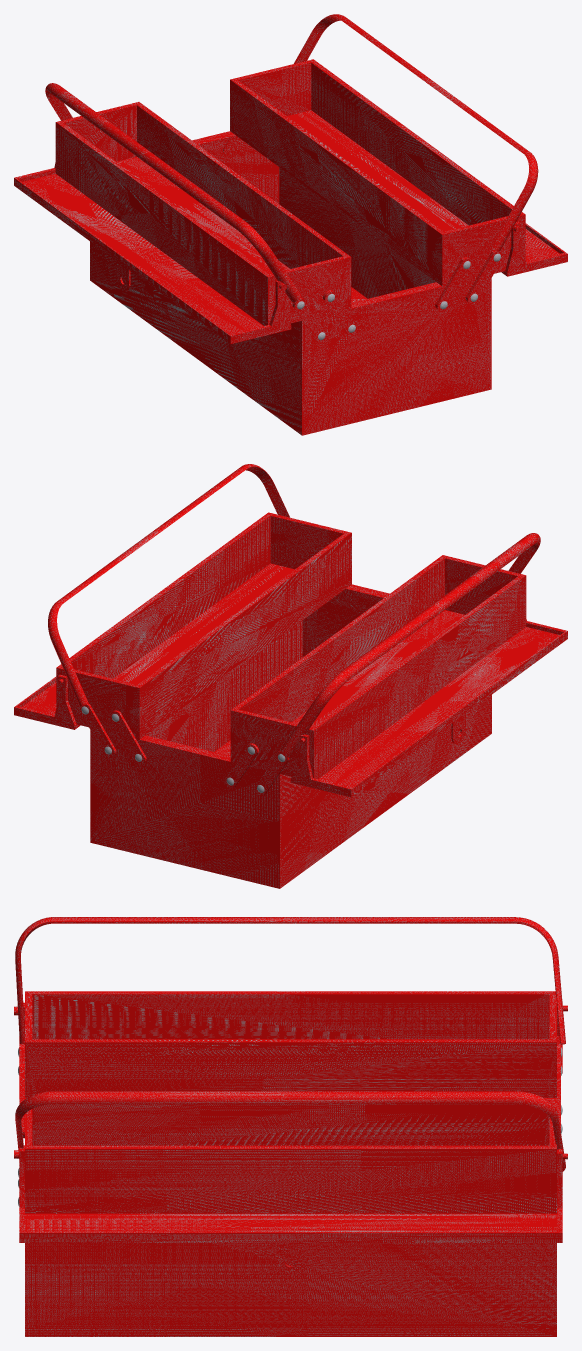
Rendered from toolbox_metal.dae.
3 renders of one model, top to bottom at view 1: azimuth 30°, elevation 25°; view 2: azimuth 150°, elevation 25°; view 3: azimuth 270°, elevation 25°, orthographic. The views are drawn at different scales.
Visible parts, largest first — view 1: SketchUp, SketchUp_038, SketchUp_043, SketchUp_044; view 2: SketchUp, SketchUp_038, SketchUp_043, SketchUp_044, SketchUp_017, SketchUp_020, SketchUp_013, SketchUp_023; view 3: SketchUp, SketchUp_043, SketchUp_038.
Boxes of the visible parts, <box> form: SketchUp: <box>14,59,567,435</box>; SketchUp_038: <box>45,83,300,302</box>; SketchUp_043: <box>294,14,538,251</box>; SketchUp_044: <box>287,114,452,231</box>; SketchUp: <box>14,512,567,888</box>; SketchUp_038: <box>280,533,540,757</box>; SketchUp_043: <box>48,464,289,706</box>; SketchUp_044: <box>129,567,294,684</box>; SketchUp_017: <box>109,710,146,765</box>; SketchUp_020: <box>79,703,116,757</box>; SketchUp_013: <box>224,743,258,788</box>; SketchUp_023: <box>254,751,289,795</box>; SketchUp: <box>19,991,562,1336</box>; SketchUp_043: <box>15,1091,565,1171</box>; SketchUp_038: <box>15,917,565,1044</box>.
Bounding box in the file's own units: 0.267 × 0.303 × 0.165.
